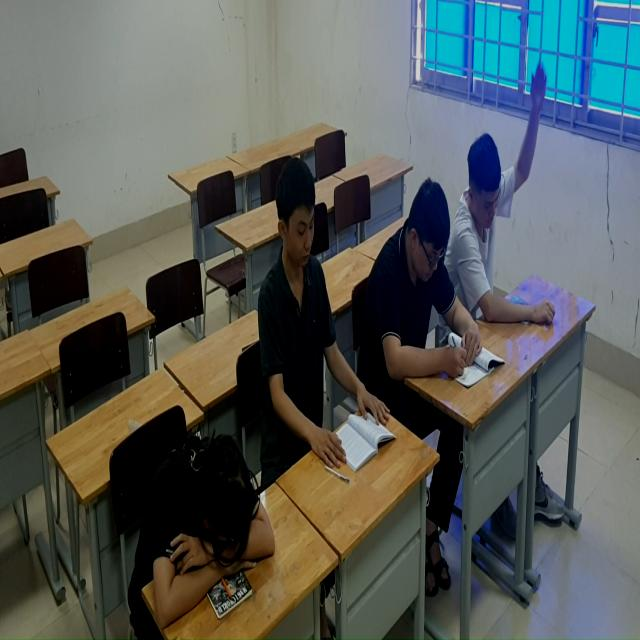raise_hand: (454, 37, 565, 350)
read: (252, 162, 397, 483), (373, 178, 485, 425)
sleep: (124, 439, 295, 640)
